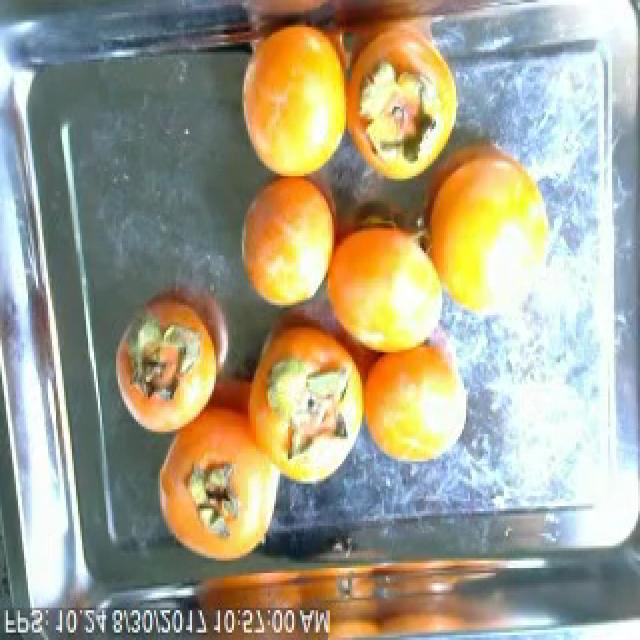Fruit: (338, 8, 470, 196), (144, 422, 300, 578), (228, 10, 362, 186), (348, 325, 482, 479), (102, 295, 230, 449), (230, 161, 346, 320)
